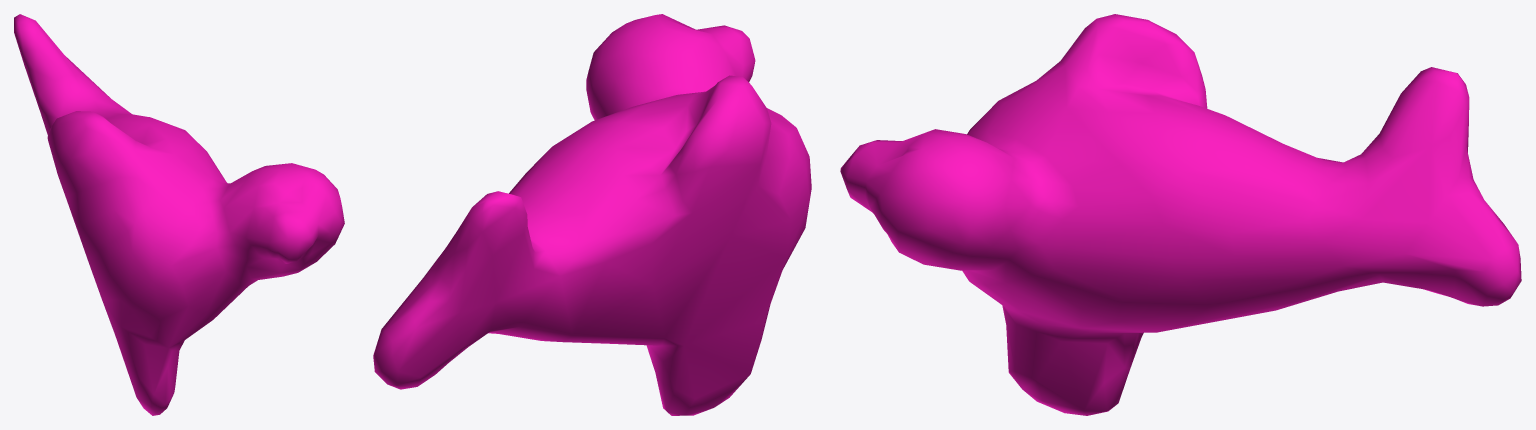
File: seal1_5.dae
3 views of the same model, side by side, from view 1: azimuth 30°, elevation 25°; view 2: azimuth 150°, elevation 25°; view 3: azimuth 270°, elevation 25° (orthographic). The views are drawn at different scales.
Parts seen in each view (by area): view 1: Seal_800_tex_019; view 2: Seal_800_tex_019; view 3: Seal_800_tex_019.
Part boxes in pixels (x1,y1,x2,y2): Seal_800_tex_019: [14, 14, 344, 415]; Seal_800_tex_019: [373, 14, 811, 415]; Seal_800_tex_019: [840, 14, 1521, 415].
Size of the model in its own units: 0.169 by 0.3845 by 0.2295.
